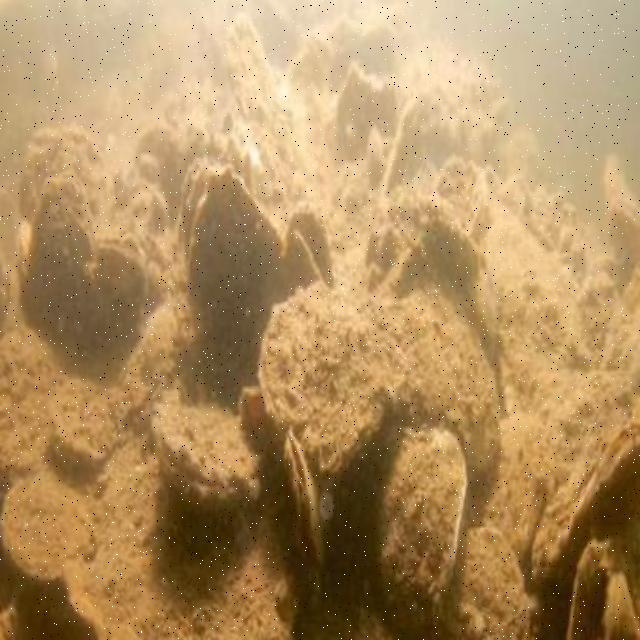Oyster-Closed: (262, 282, 410, 472), (379, 276, 502, 470), (371, 424, 467, 618), (190, 167, 285, 350), (549, 416, 638, 599), (154, 392, 266, 508), (434, 523, 528, 638), (24, 173, 98, 319), (0, 461, 93, 576), (62, 531, 138, 631), (53, 376, 133, 461), (224, 18, 285, 129), (613, 195, 638, 264)
Oyster-Open: (74, 236, 149, 348), (563, 530, 638, 638), (286, 438, 329, 589), (287, 195, 337, 291)
